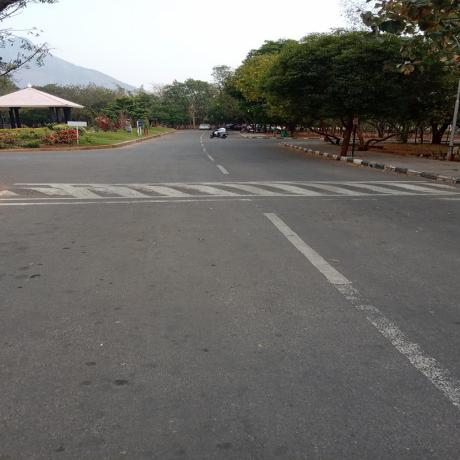Speed Bump: (0, 180, 459, 206)
